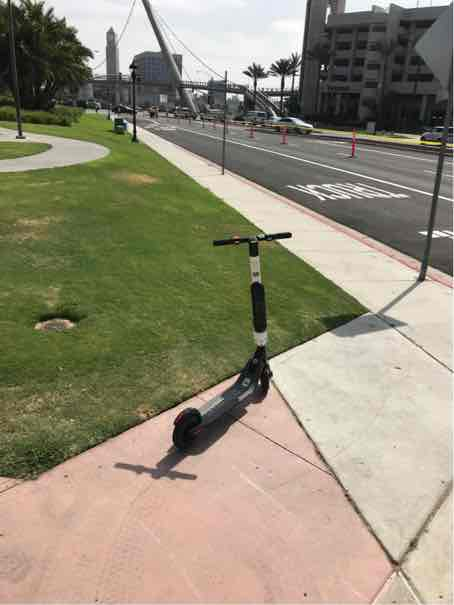scooter: (159, 214, 298, 474)
